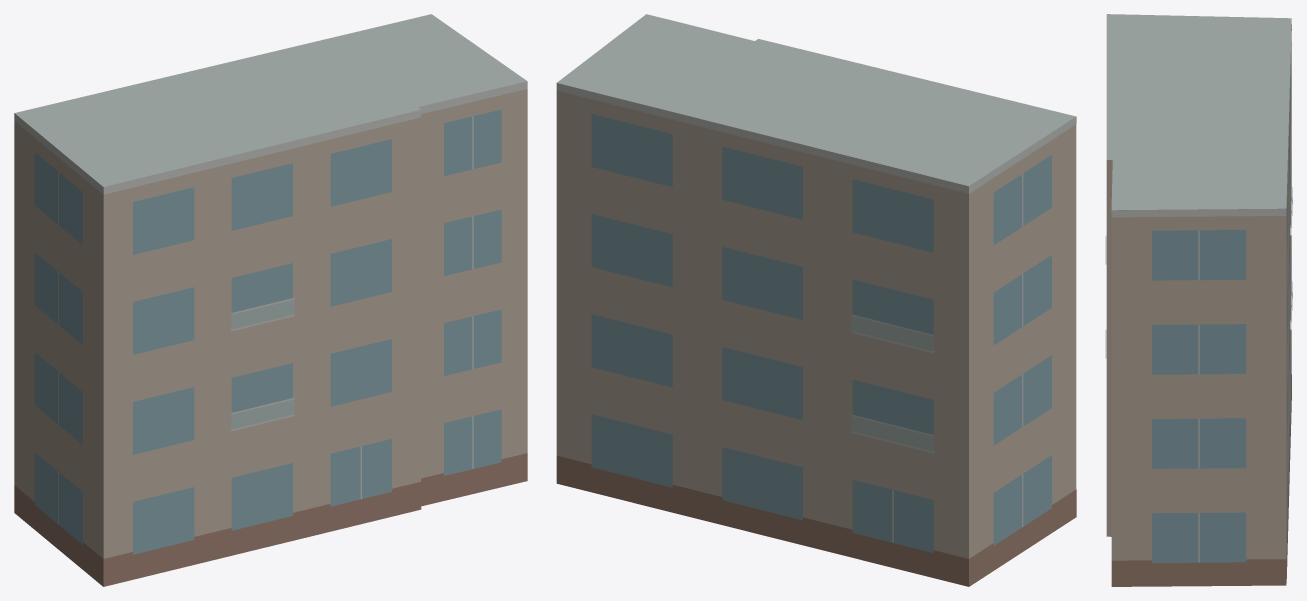
File: survey-upis-32779966.glb
3 views of the same model, side by side, from view 1: azimuth 30°, elevation 25°; view 2: azimuth 150°, elevation 25°; view 3: azimuth 270°, elevation 25° (orthographic). The views are drawn at different scales.
Parts seen in each view (by area): view 1: survey-upis-32779966.tmp; view 2: survey-upis-32779966.tmp; view 3: survey-upis-32779966.tmp.
Part boxes in pixels (box(x1,y1,x2,y2)): survey-upis-32779966.tmp: box(14, 14, 527, 586); survey-upis-32779966.tmp: box(556, 14, 1076, 586); survey-upis-32779966.tmp: box(1105, 14, 1292, 586).
Size of the model in its own units: 14.3 by 12.8 by 5.77.
